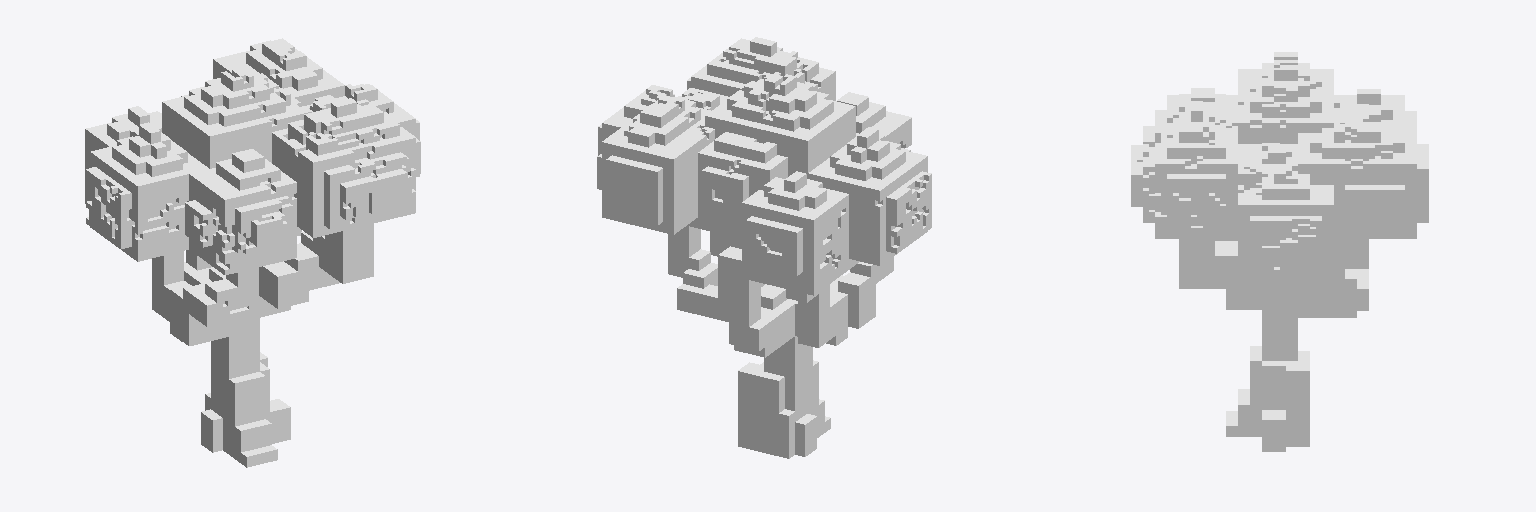
The model's file is House1-26.obj.
The picture shows the model from 3 angles: view 1: azimuth 30°, elevation 25°; view 2: azimuth 150°, elevation 25°; view 3: azimuth 270°, elevation 25°; orthographic projection.
Parts seen in each view (by area): view 1: object 1; view 2: object 1; view 3: object 1.
Boxes of the visible parts, x1,y1,x2,y2 form: object 1: [85, 38, 420, 467]; object 1: [597, 37, 931, 458]; object 1: [1131, 52, 1428, 451].
Size of the model in its own units: 11.6 by 13.6 by 10.